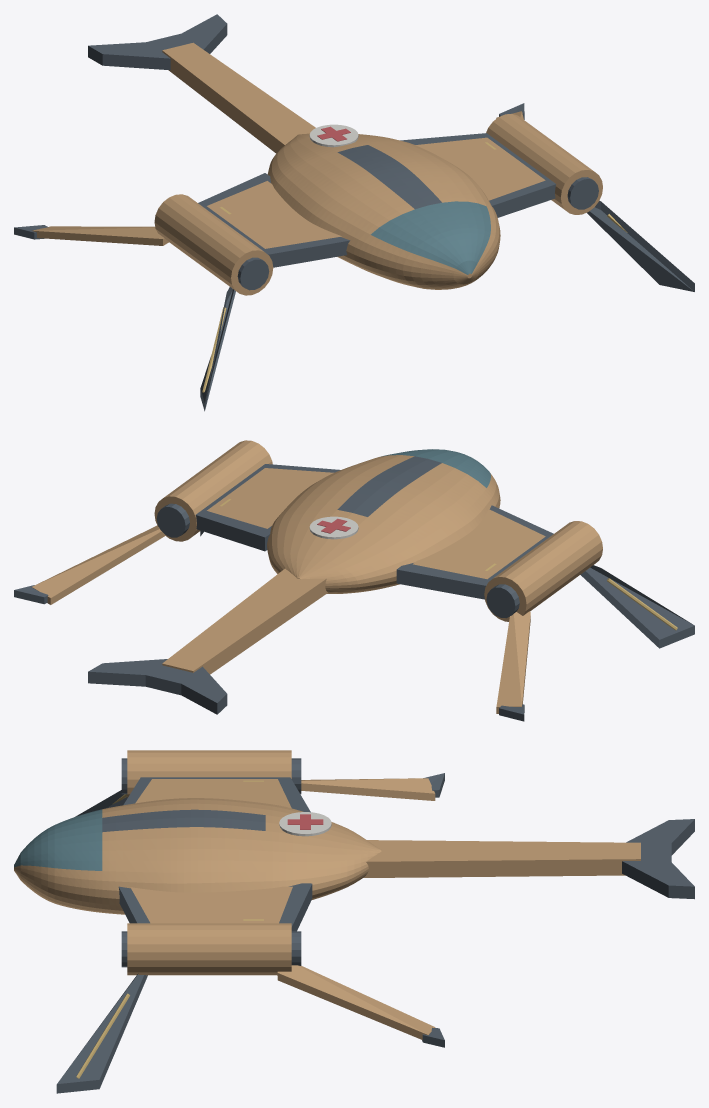
File: medtech_orange_off.glb
3 renders of one model, top to bottom at view 1: azimuth 30°, elevation 25°; view 2: azimuth 150°, elevation 25°; view 3: azimuth 270°, elevation 25°, orthographic. The views are drawn at different scales.
Parts seen in each view (by area): view 1: material_0, material_2, material_1, material_4; view 2: material_0, material_2, material_1, material_4; view 3: material_0, material_2, material_1, material_4, material_3.
Part boxes in pixels (box(x1,y1,x2,y2)): material_0: box(32, 42, 602, 295); material_2: box(14, 14, 694, 411); material_1: box(370, 201, 490, 274); material_4: box(309, 124, 358, 147); material_0: box(32, 440, 602, 713); material_2: box(14, 456, 694, 721); material_1: box(381, 449, 490, 487); material_4: box(309, 516, 358, 539); material_0: box(14, 750, 640, 1039); material_2: box(56, 758, 694, 1093); material_1: box(14, 809, 102, 870); material_4: box(279, 812, 331, 836); material_3: box(76, 780, 263, 1078).
Bounding box in the file's own units: 4.58 × 1.21 × 4.93.
